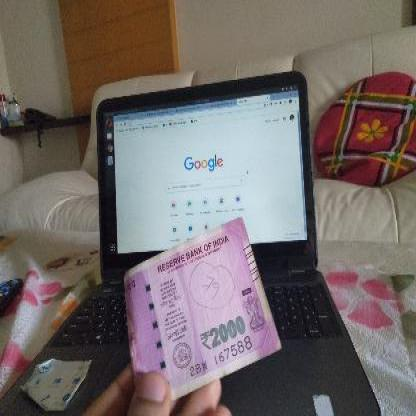New2000Front: (116, 215, 264, 388)
